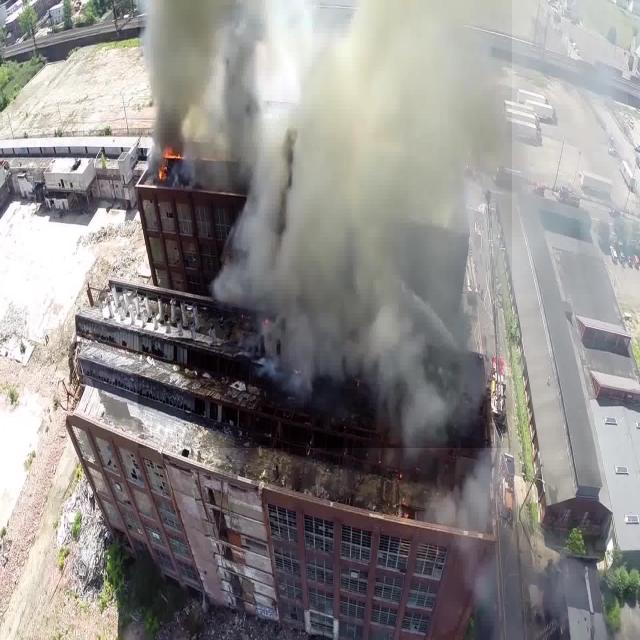Smoke: (138, 0, 512, 448), (438, 452, 540, 640)
